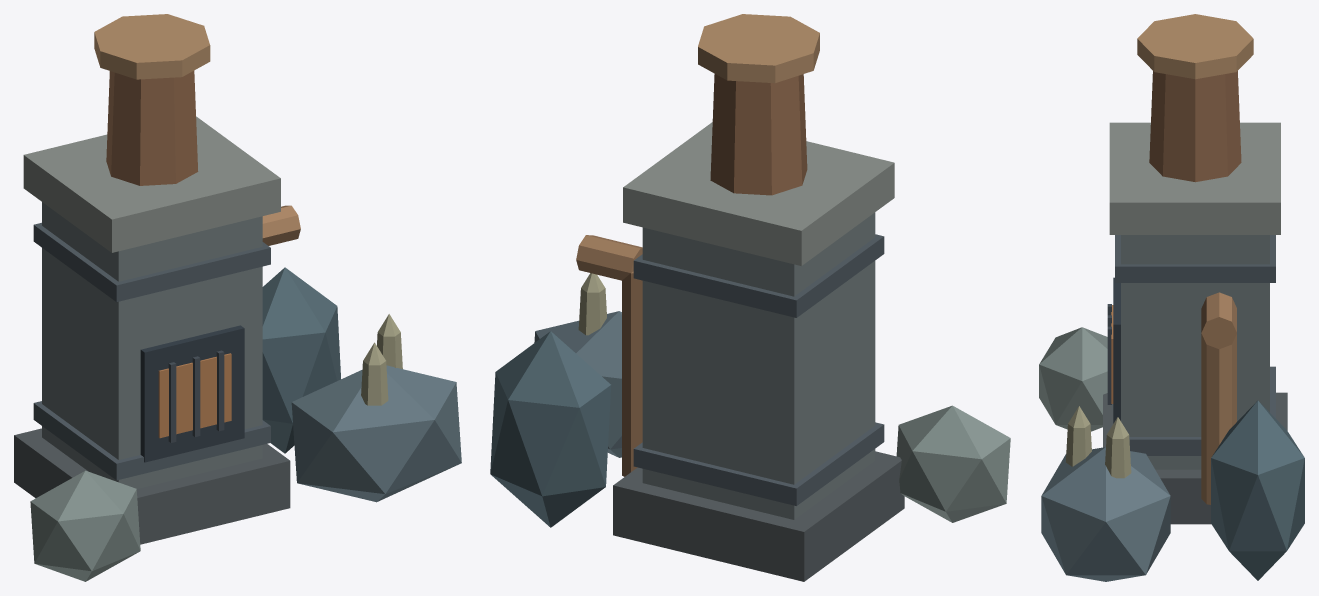
File: xingyin-environment-v2__iron_forge_cluster.glb
3 views of the same model, side by side, from view 1: azimuth 30°, elevation 25°; view 2: azimuth 150°, elevation 25°; view 3: azimuth 270°, elevation 25° (orthographic). The views are drawn at different scales.
Parts seen in each view (by area): view 1: iron_forge_cluster; view 2: iron_forge_cluster; view 3: iron_forge_cluster.
Boxes of the visible parts, x1,y1,x2,y2 form: iron_forge_cluster: (14,14,461,581); iron_forge_cluster: (490,14,1010,581); iron_forge_cluster: (1039,14,1304,581).
Bounding box in the file's own units: 3.26 × 3.44 × 1.78.
